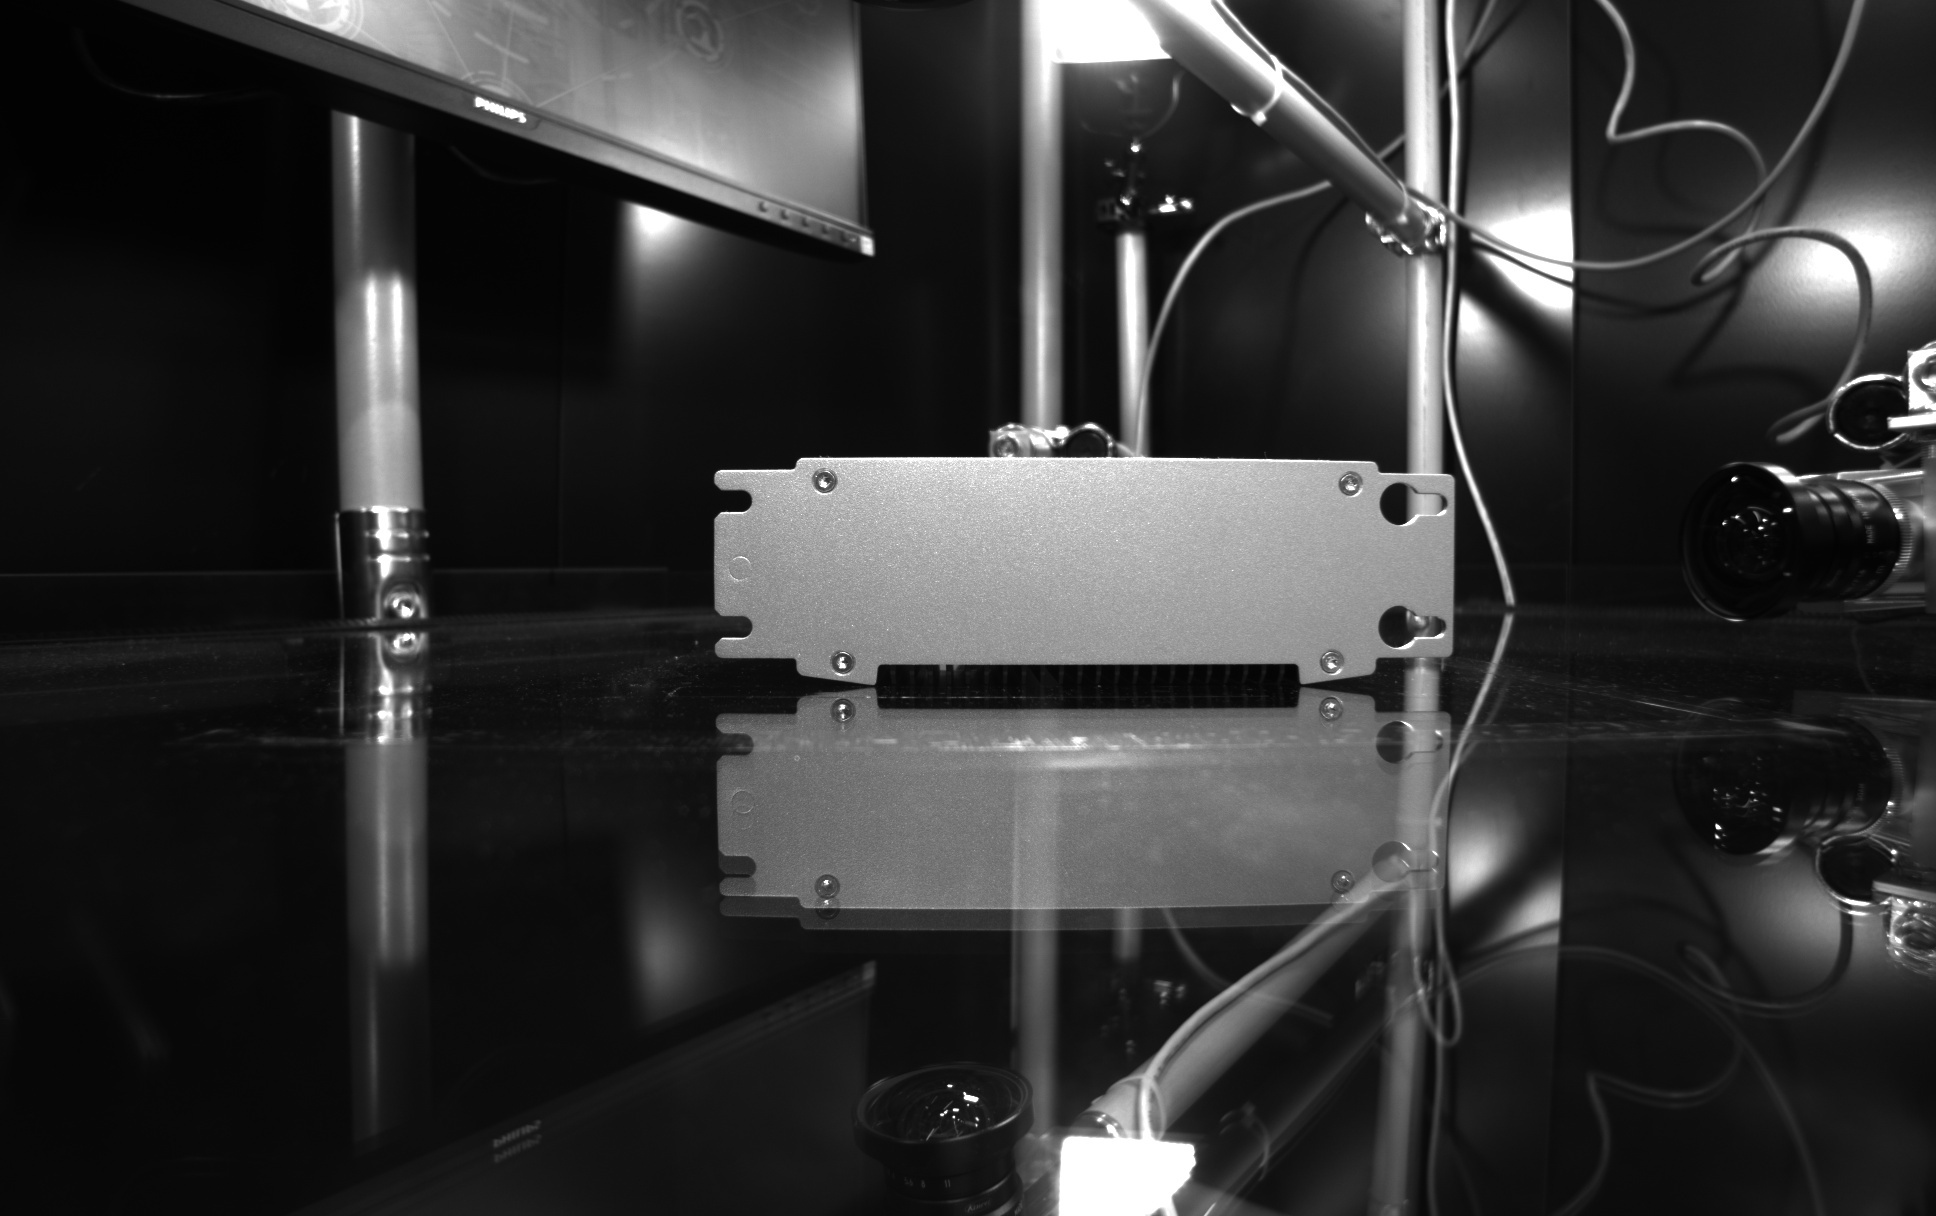CamBack: (685, 438, 1482, 684)
Schraube: (825, 642, 863, 679), (1317, 644, 1350, 678), (1332, 469, 1367, 502), (808, 465, 841, 497)
Schraube_gespiegelt: (807, 870, 849, 932), (1322, 864, 1364, 925), (821, 695, 863, 752), (1313, 691, 1355, 747)
